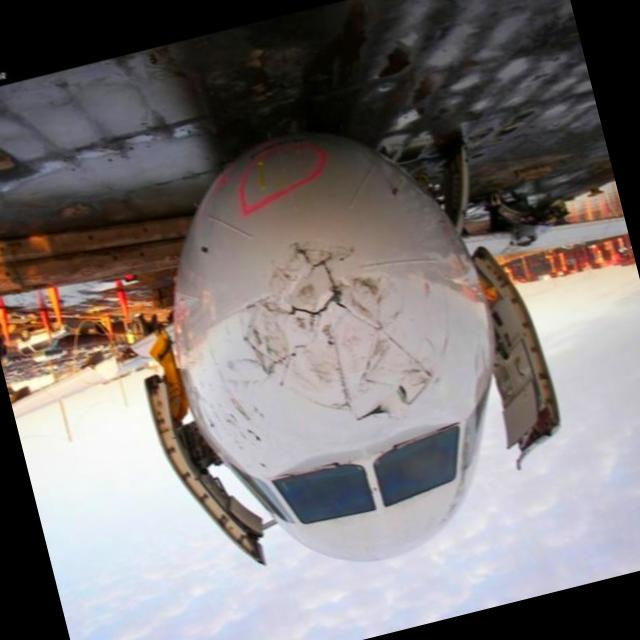crack: (212, 198, 459, 443)
